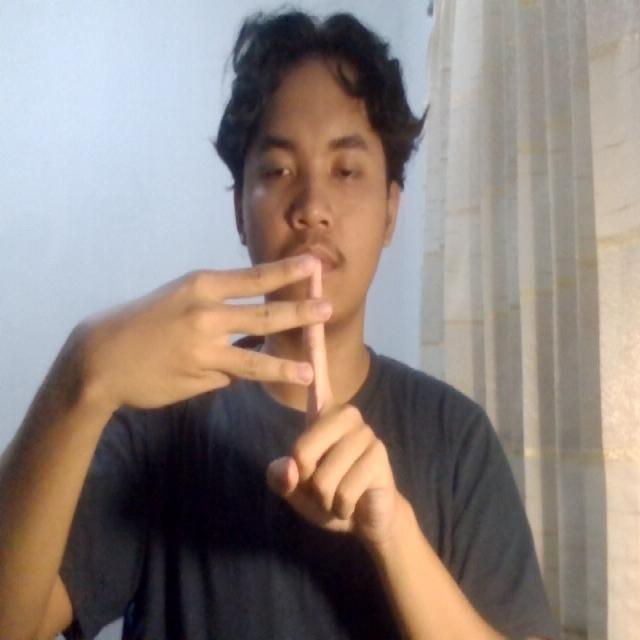B: (106, 233, 417, 564)
